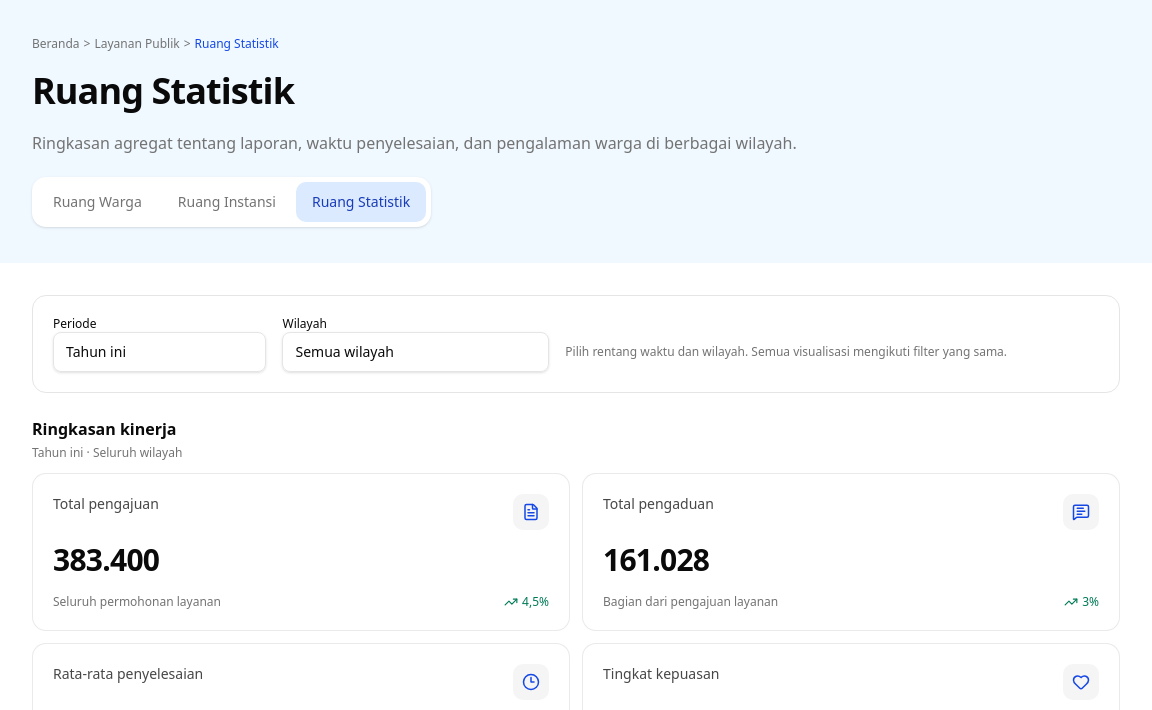
Test case: TrackingStatisticsPage › updates API aggregates for period and region filters without navigation
Check: the text "383.400" is shown, box [53,539,159,580]
Select "Bulan ini" in the dropdown labelled "Periode" at (160, 352), box [53,332,266,372]
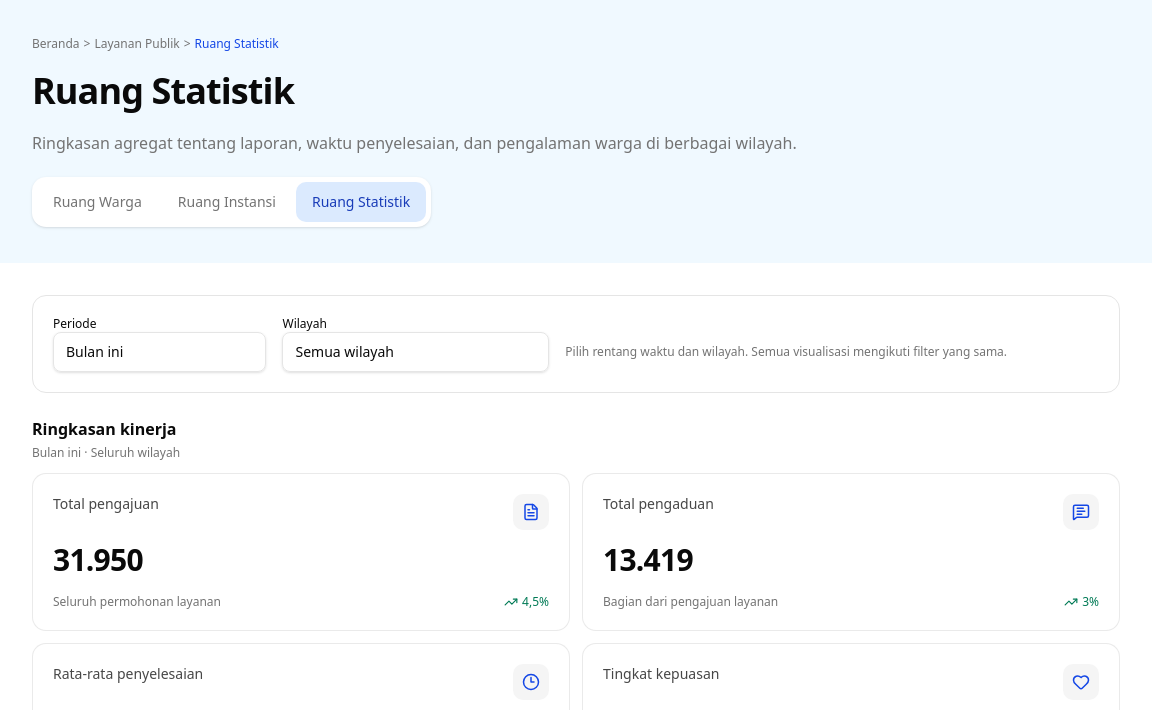
Check: the text "31.950" is shown, box [53,539,143,580]
Select "Jawa Barat" in the dropdown labelled "Wilayah" at (416, 352), box [282,332,549,372]
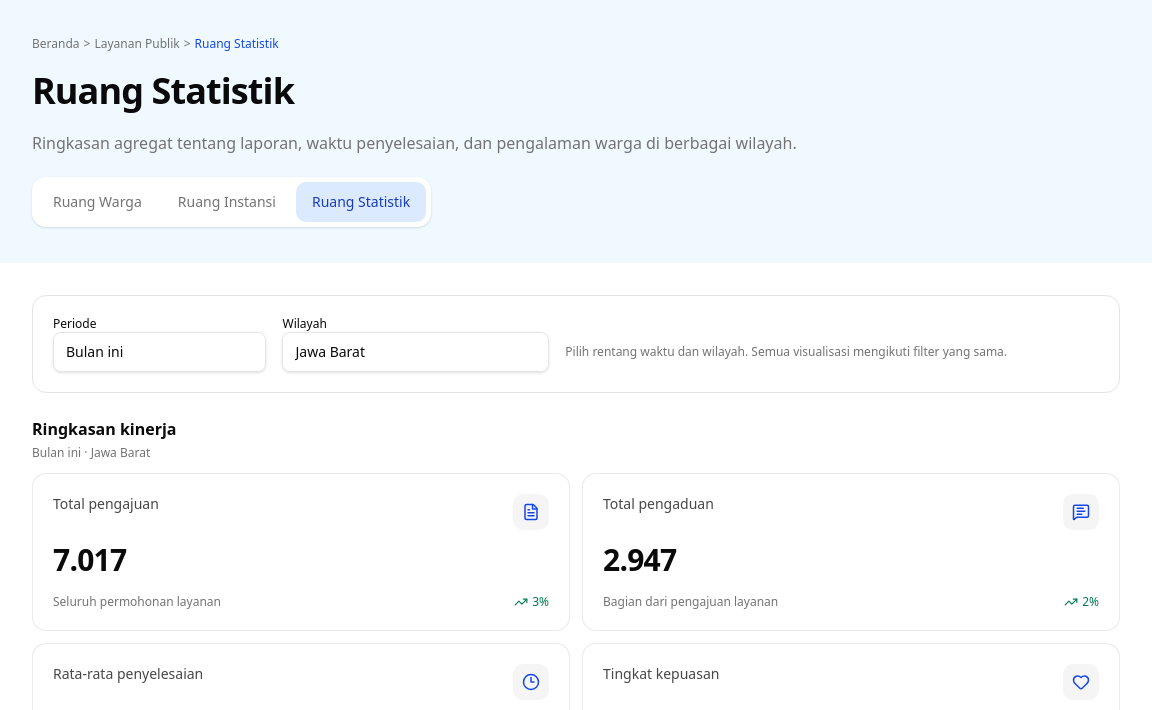
Check: the text "7.017" is shown, box [53,539,126,580]
Check: the text "Bulan ini · Jawa Barat" is shown, box [32,444,150,461]
